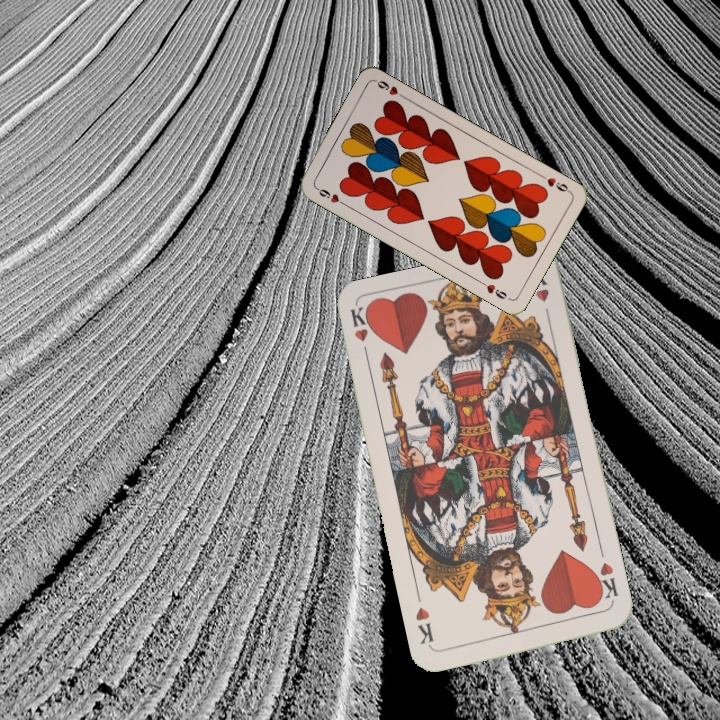H9: (311, 183, 349, 209), (536, 170, 573, 196)
HK: (346, 303, 374, 364), (590, 558, 621, 607)
